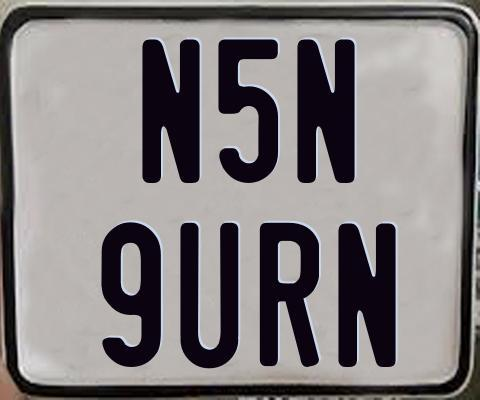5: (217, 37, 277, 182)
9: (101, 220, 164, 366)
N: (140, 38, 204, 184), (336, 222, 397, 371), (295, 38, 355, 185)
R: (257, 220, 320, 369)
U: (178, 223, 240, 373)
